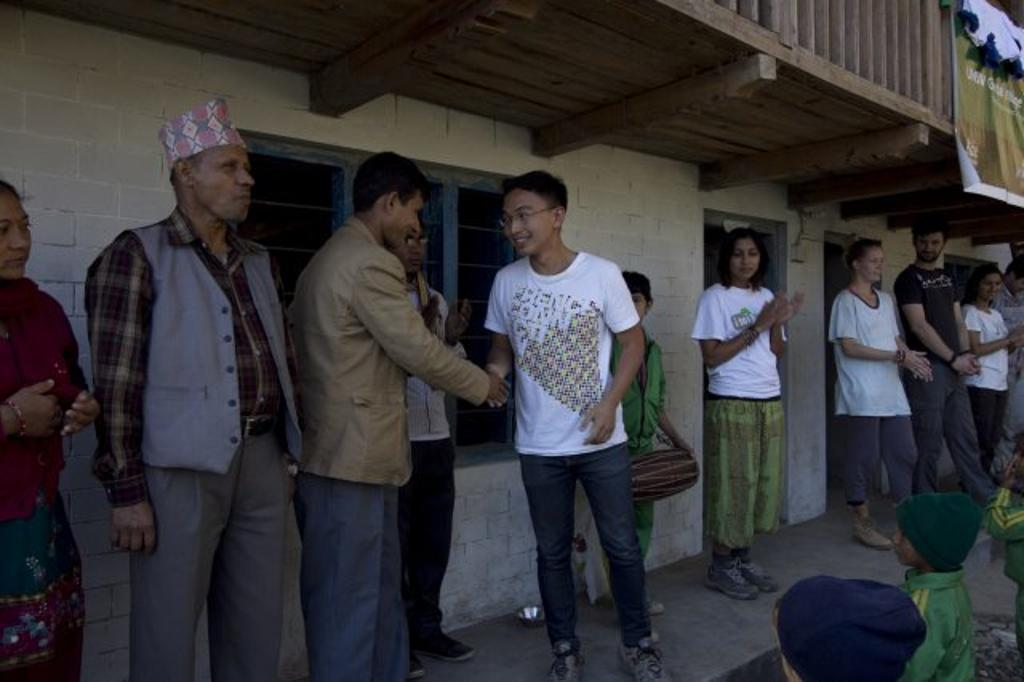face: (195, 149, 255, 223), (507, 198, 551, 257), (1, 199, 31, 280), (395, 196, 421, 249), (894, 523, 920, 567), (732, 240, 760, 280), (402, 230, 425, 276), (621, 292, 647, 325), (861, 250, 884, 283), (917, 235, 943, 263), (980, 275, 1001, 300)
